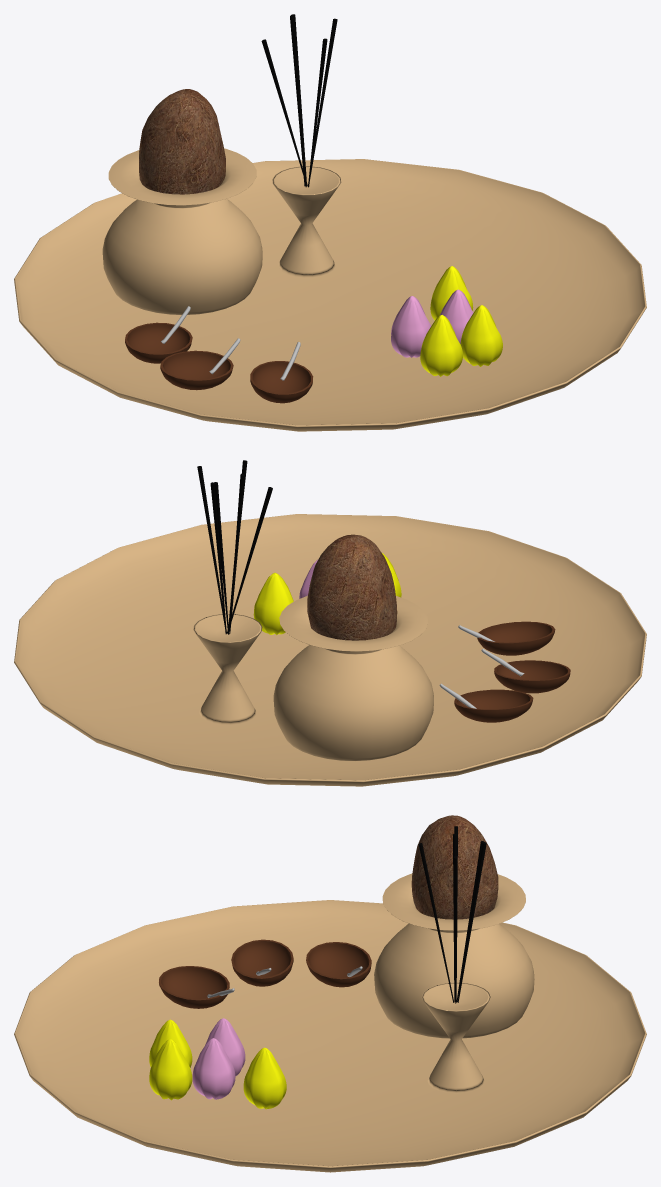
Rendered from aaarti_thali.glb.
3 views of the same model, one above another, from view 1: azimuth 30°, elevation 25°; view 2: azimuth 150°, elevation 25°; view 3: azimuth 270°, elevation 25° (orthographic).
Parts seen in each view (by area): view 1: Object_8, Object_2, Object_6, Object_4, Object_3, Object_5, Object_7; view 2: Object_8, Object_2, Object_6, Object_5, Object_4, Object_7; view 3: Object_8, Object_6, Object_2, Object_4, Object_3, Object_5.
Boxes of the visible parts, x1,y1,x2,y2 form: Object_8: (14,148,646,431); Object_2: (139,89,225,194); Object_6: (125,322,313,403); Object_4: (420,266,502,376); Object_3: (391,289,473,357); Object_5: (261,14,337,187); Object_7: (161,306,300,380); Object_8: (14,514,646,786); Object_2: (307,534,397,640); Object_6: (454,621,570,722); Object_5: (197,460,272,634); Object_4: (253,553,401,635); Object_7: (439,625,524,708); Object_8: (14,873,646,1172); Object_6: (159,939,371,1008); Object_2: (411,815,498,919); Object_4: (149,1019,286,1109); Object_3: (192,1018,245,1099); Object_5: (418,826,486,1003).
Bounding box in the file's own units: 22.19 × 9.58 × 22.19.
7 materials, 1 textured.
